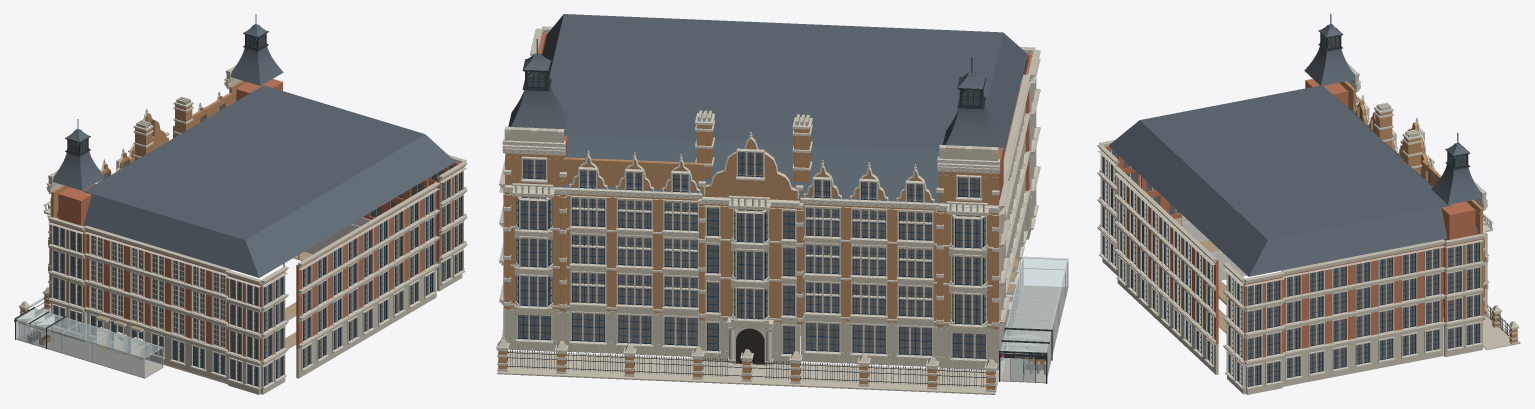
The model's file is sal-exterior-0261e838bb77.glb.
The picture shows the model from 3 angles, left to right: view 1: azimuth 30°, elevation 25°; view 2: azimuth 150°, elevation 25°; view 3: azimuth 270°, elevation 25°; orthographic projection. The views are drawn at different scales.
Parts seen in each view (by area): view 1: SAL.001; view 2: SAL.001; view 3: SAL.001.
Boxes of the visible parts, x1=… form: SAL.001: x1=14, y1=14, x2=467, y2=394; SAL.001: x1=496, y1=14, x2=1068, y2=394; SAL.001: x1=1097, y1=14, x2=1520, y2=394.
Bounding box in the file's own units: 68.11 × 33.95 × 61.15.
